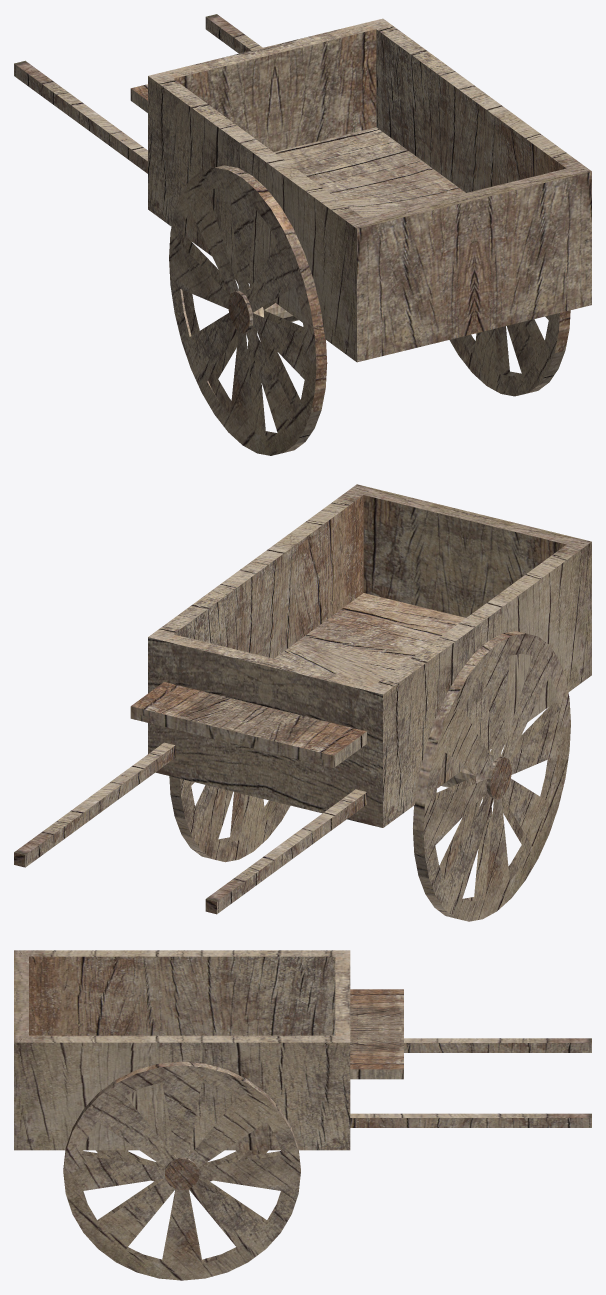
The model's file is carro.fbx.
The picture shows the model from 3 angles, top to bottom: view 1: azimuth 30°, elevation 25°; view 2: azimuth 150°, elevation 25°; view 3: azimuth 270°, elevation 25°; orthographic projection. The views are drawn at different scales.
Visible parts, largest first — view 1: Cylinder; view 2: Cylinder; view 3: Cylinder.
Boxes of the visible parts, bbox=[...] form: Cylinder: bbox=[14, 14, 591, 455]; Cylinder: bbox=[14, 484, 591, 921]; Cylinder: bbox=[14, 950, 591, 1280].
Bounding box in the file's own units: 411 × 435 × 974.
